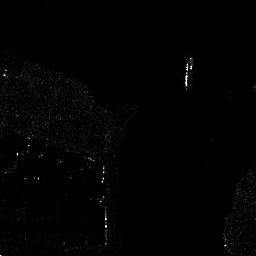ship: (184, 55, 192, 88)
